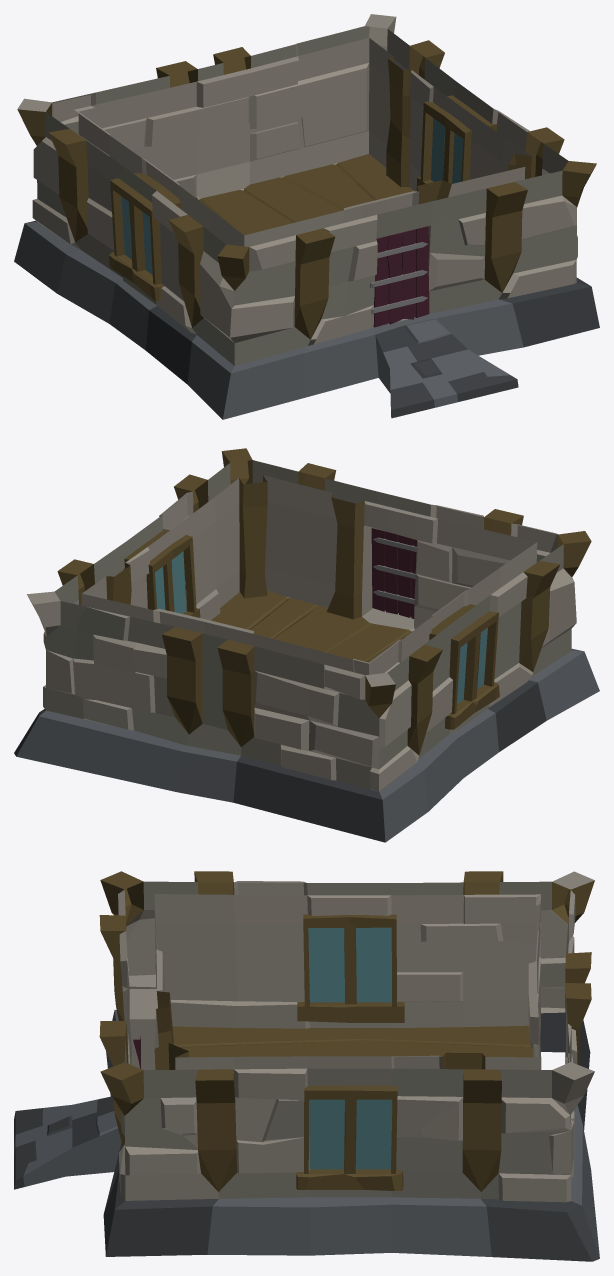
Rendered from BuildingFoundation.fbx.
3 views of the same model, one above another, from view 1: azimuth 30°, elevation 25°; view 2: azimuth 150°, elevation 25°; view 3: azimuth 270°, elevation 25° (orthographic). The views are drawn at different scales.
Visible parts, largest first — view 1: BuildingBase, WindowsBase, Door; view 2: BuildingBase, WindowsBase, Door; view 3: BuildingBase, WindowsBase.
Boxes of the visible parts, box(x1,y1,x2,y2) form: BuildingBase: box(14, 14, 599, 419); WindowsBase: box(109, 95, 497, 301); Door: box(370, 226, 429, 327); BuildingBase: box(14, 448, 599, 842); WindowsBase: box(123, 529, 499, 729); Door: box(371, 528, 416, 618); BuildingBase: box(14, 871, 599, 1261); WindowsBase: box(296, 914, 404, 1190).
Bounding box in the file's own units: 17.29 × 6.8 × 20.13.
